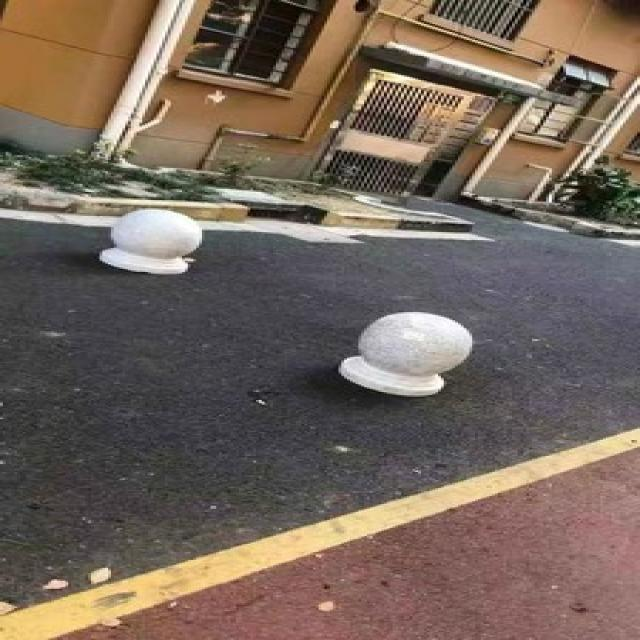spherical_roadblock: (336, 309, 466, 395), (97, 205, 199, 272)
